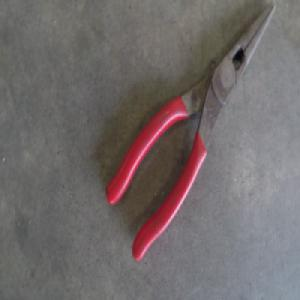Pliers: (104, 1, 276, 260)
